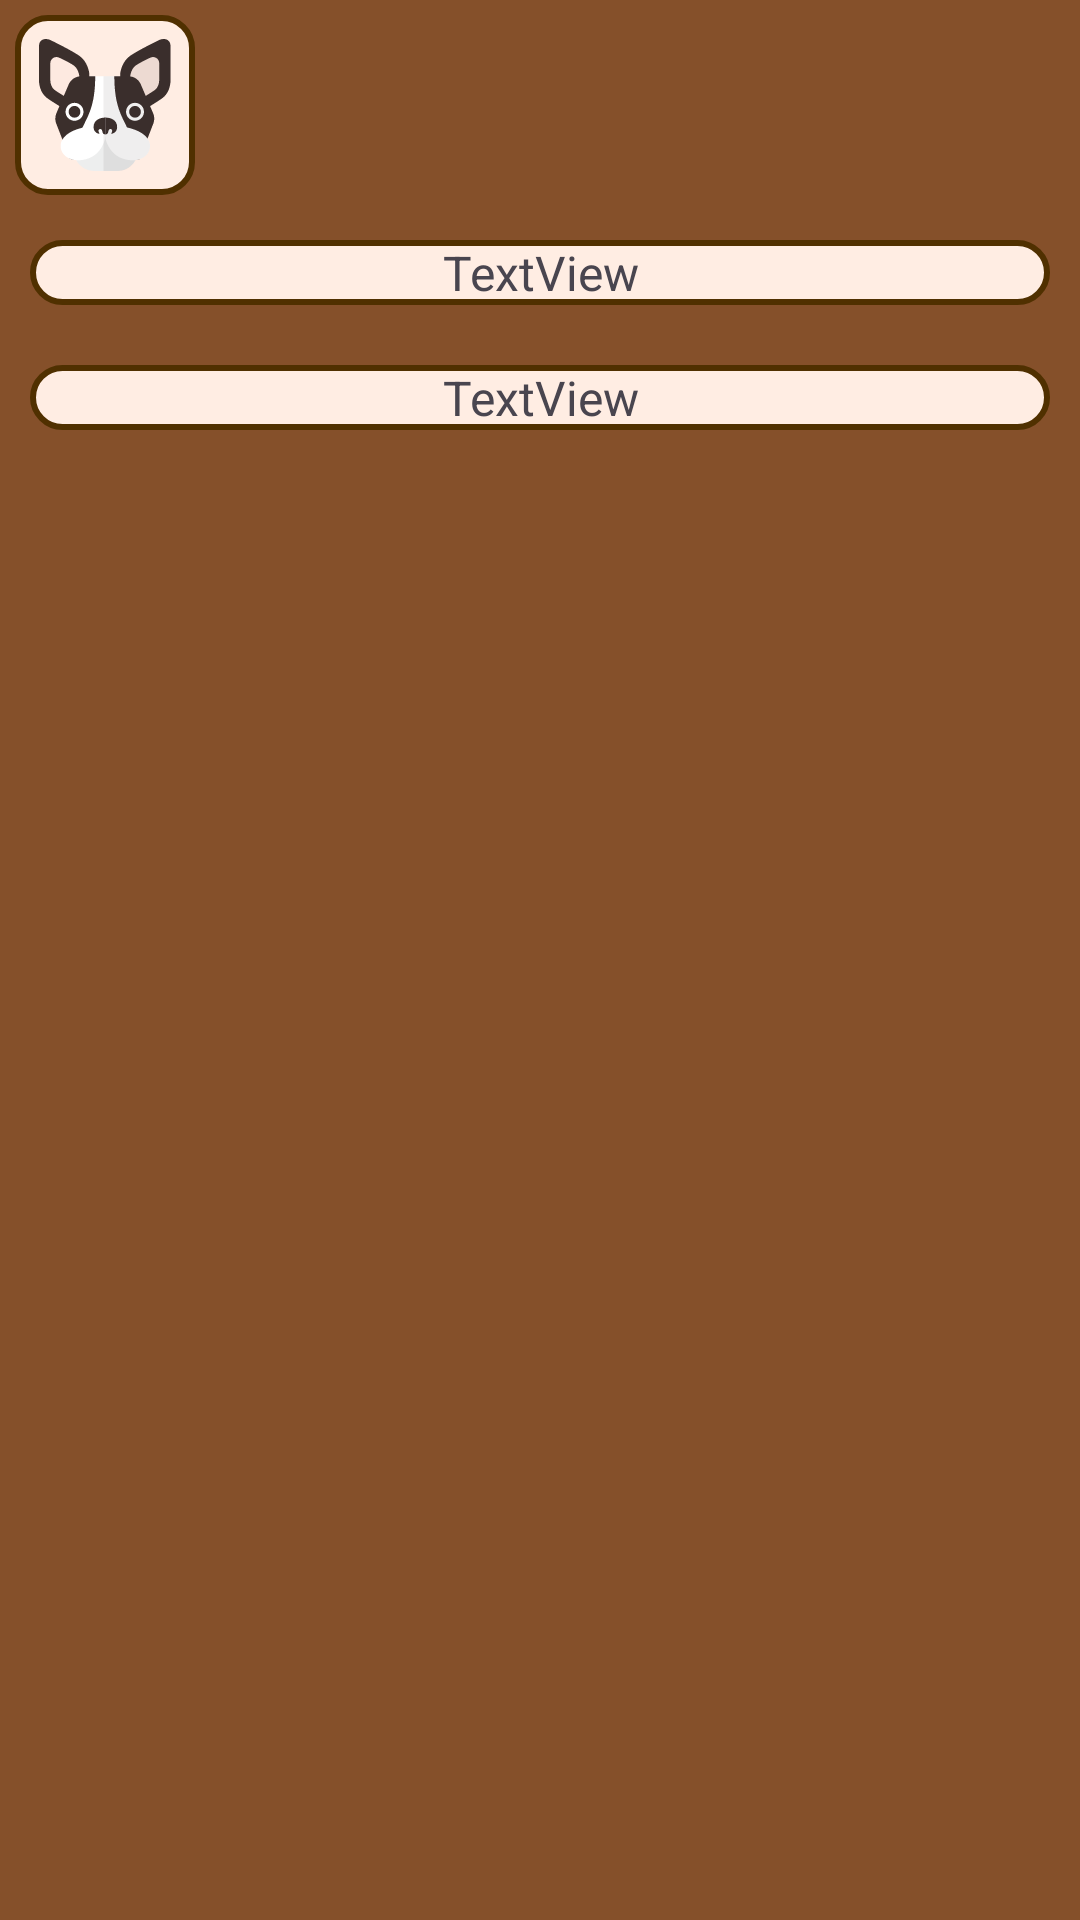

Icon bounding boxes for this 1080 × 1920 phone screenshot, format Rect(x1, y1, x2, y2):
dog: Rect(15, 15, 195, 195)
